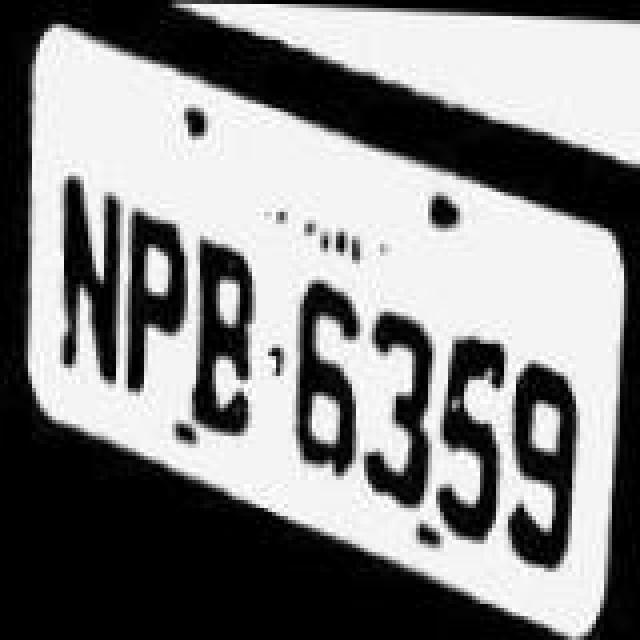3: (358, 252, 438, 512)
5: (434, 278, 506, 546)
6: (280, 264, 364, 504)
9: (500, 306, 580, 578)
B: (184, 228, 264, 440)
N: (48, 156, 124, 400)
P: (114, 196, 190, 420)
